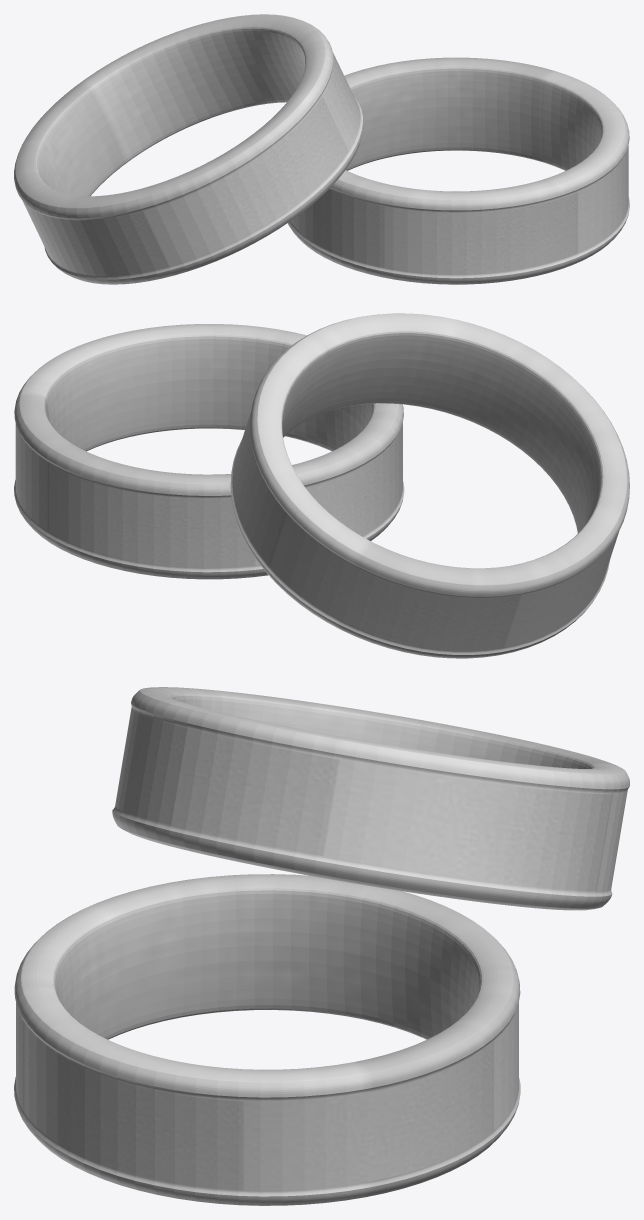
File: rings.obj
3 renders of one model, top to bottom at view 1: azimuth 30°, elevation 25°; view 2: azimuth 150°, elevation 25°; view 3: azimuth 270°, elevation 25°, orthographic. The views are drawn at different scales.
Parts seen in each view (by area): view 1: Ring002, Ring; view 2: Ring002, Ring; view 3: Ring, Ring002.
Boxes of the visible parts, left/top/right/bottom form: Ring002: left=14, top=14, right=363, bottom=284; Ring: left=288, top=57, right=629, bottom=284; Ring002: left=230, top=313, right=629, bottom=658; Ring: left=14, top=324, right=404, bottom=579; Ring: left=14, top=874, right=520, bottom=1205; Ring002: left=112, top=687, right=629, bottom=910.
Size of the model in its own units: 0.4806 by 0.17 by 0.3282.
